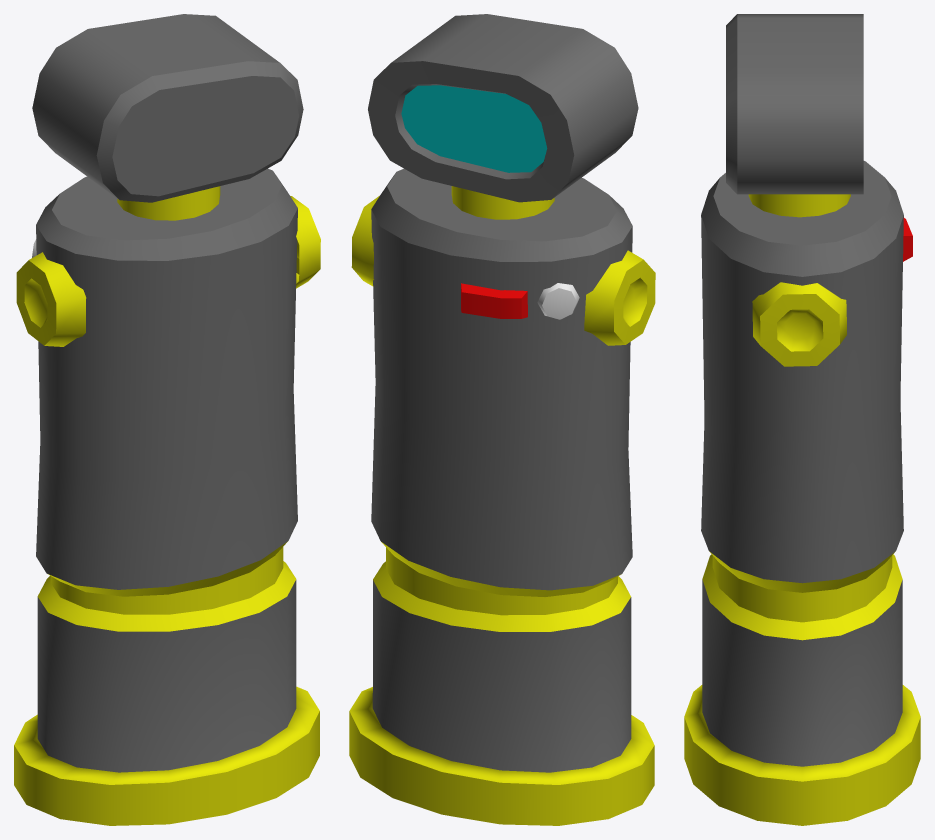
Rendered from Ironer_Body.fbx.
3 views of the same model, side by side, from view 1: azimuth 30°, elevation 25°; view 2: azimuth 150°, elevation 25°; view 3: azimuth 270°, elevation 25° (orthographic).
Parts seen in each view (by area): view 1: Ironer_Body; view 2: Ironer_Body; view 3: Ironer_Body.
Boxes of the visible parts, bbox=[...] form: Ironer_Body: bbox=[14, 14, 320, 825]; Ironer_Body: bbox=[349, 14, 655, 825]; Ironer_Body: bbox=[684, 14, 920, 825].
Bounding box in the file's own units: 101 × 250 × 74.59.
